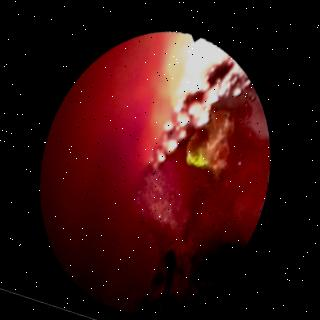laser: (187, 151, 205, 163)
stone: (187, 105, 234, 180)
tissue: (46, 35, 266, 308)
